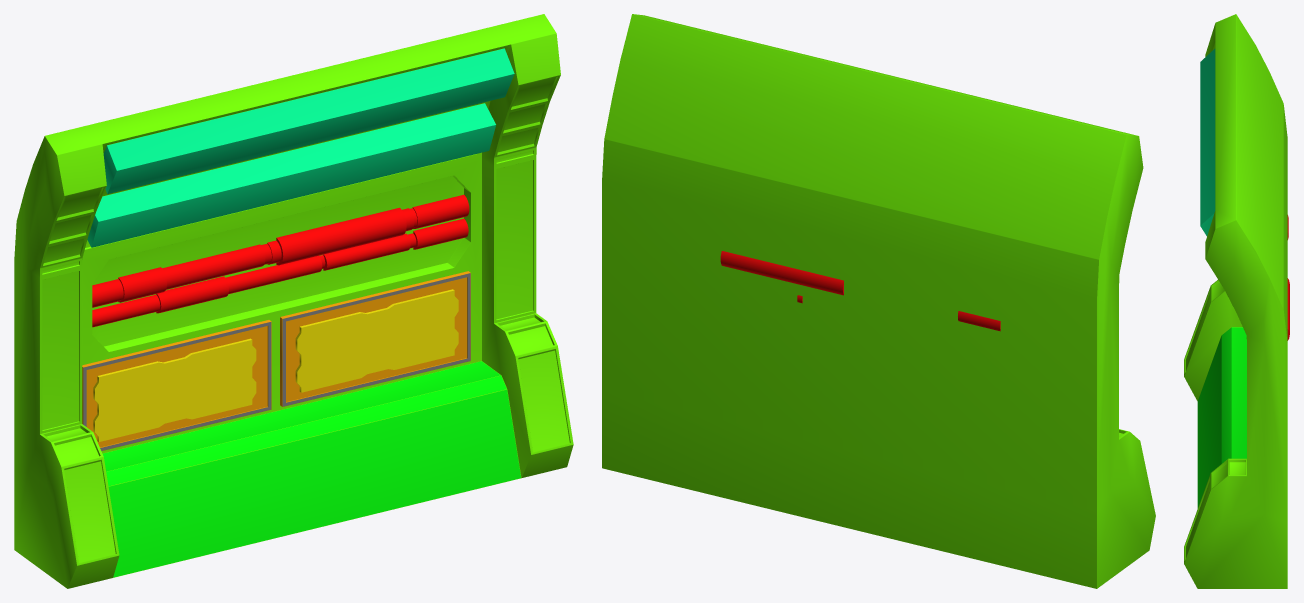
Rendered from new wall 5th room.fbx.
3 renders of one model, left to right at view 1: azimuth 30°, elevation 25°; view 2: azimuth 150°, elevation 25°; view 3: azimuth 270°, elevation 25°, orthographic. The views are drawn at different scales.
Parts seen in each view (by area): view 1: Box001, Box005, Cylinder002, Box003; view 2: Box001, Cylinder002; view 3: Box001, Cylinder002.
Boxes of the visible parts, x1,y1,x2,y2 form: Box001: (14,14,573,588); Box005: (93,289,458,441); Cylinder002: (92,194,469,327); Box003: (82,271,470,450); Box001: (602,14,1155,588); Cylinder002: (720,251,1000,331); Box001: (1184,14,1287,588); Cylinder002: (1287,215,1289,340).
Size of the model in its own units: 1754 by 1464 by 380.
